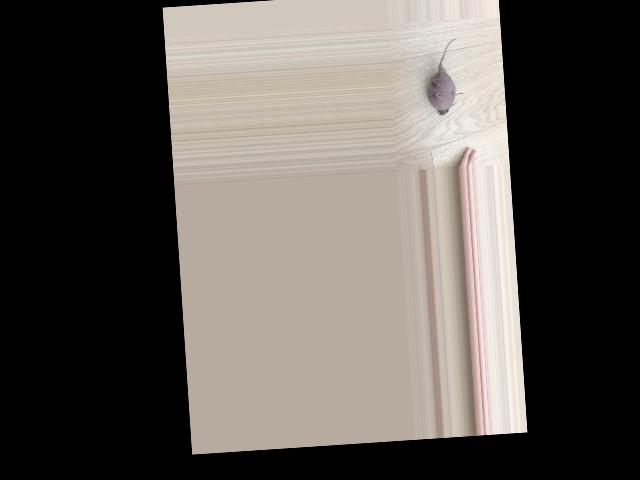beet: (424, 37, 464, 115)
